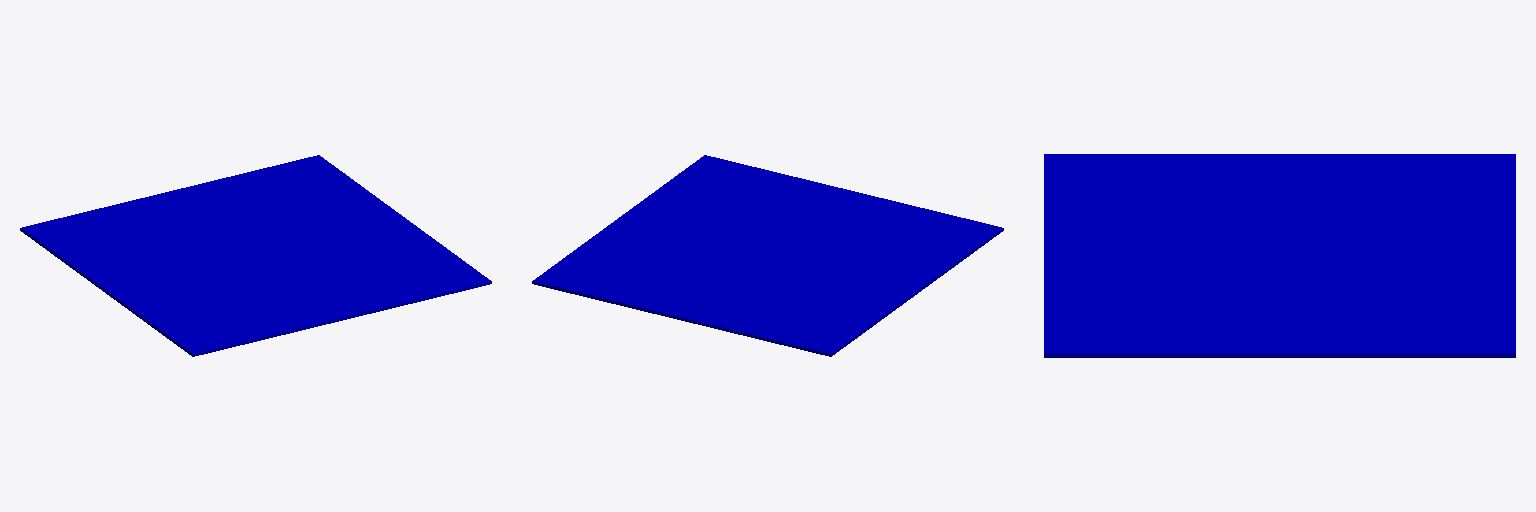
robot.urdf — ur5e:
<?xml version="1.0" ?>
<!-- =================================================================================== -->
<!-- |    This document was autogenerated by xacro from ur5e.xacro                     | -->
<!-- |    EDITING THIS FILE BY HAND IS NOT RECOMMENDED                                 | -->
<!-- =================================================================================== -->
<robot name="ur5e">
  <gazebo>
    <plugin filename="libgazebo_ros_control.so" name="ros_control">
      <!--robotNamespace>/</robotNamespace-->
      <!--robotSimType>gazebo_ros_control/DefaultRobotHWSim</robotSimType-->
    </plugin>
    <!--
    <plugin name="gazebo_ros_power_monitor_controller" filename="libgazebo_ros_power_monitor.so">
      <alwaysOn>true</alwaysOn>
      <updateRate>1.0</updateRate>
      <timeout>5</timeout>
      <powerStateTopic>power_state</powerStateTopic>
      <powerStateRate>10.0</powerStateRate>
      <fullChargeCapacity>87.78</fullChargeCapacity>     
      <dischargeRate>-474</dischargeRate>
      <chargeRate>525</chargeRate>
      <dischargeVoltage>15.52</dischargeVoltage>
      <chargeVoltage>16.41</chargeVoltage>
    </plugin>
-->
  </gazebo>
  <!-- Create the link of the hemisphere -->
  <!--property name="shoulder_height" value="0.089159" /-->
  <!--property name="shoulder_offset" value="0.13585" /-->
  <!-- shoulder_offset - elbow_offset + wrist_1_length = 0.10915 -->
  <!--property name="upper_arm_length" value="0.42500" /-->
  <!--property name="elbow_offset" value="0.1197" /-->
  <!-- CAD measured -->
  <!--property name="forearm_length" value="0.39225" /-->
  <!--property name="wrist_1_length" value="0.093" /-->
  <!-- CAD measured -->
  <!--property name="wrist_2_length" value="0.09465" /-->
  <!-- In CAD this distance is 0.930, but in the spec it is 0.09465 -->
  <!--property name="wrist_3_length" value="0.0823" /-->
  <!-- manually measured -->
  <link name="ur5_base_link">
    <visual>
      <geometry>
        <mesh filename="./ur5e/meshes/visual/base.dae"/>
      </geometry>
      <material name="LightGrey">
        <color rgba="0.7 0.7 0.7 1.0"/>
      </material>
    </visual>
    <collision>
      <geometry>
        <mesh filename="./ur5e/meshes/collision/base.stl"/>
      </geometry>
    </collision>
    <inertial>
      <mass value="4.0"/>
      <origin rpy="0 0 0" xyz="0.0 0.0 0.0"/>
      <inertia ixx="0.00443333156" ixy="0.0" ixz="0.0" iyy="0.00443333156" iyz="0.0" izz="0.0072"/>
    </inertial>
  </link>
  <joint name="ur5_shoulder_pan_joint" type="revolute">
    <parent link="ur5_base_link"/>
    <child link="ur5_shoulder_link"/>
    <origin rpy="0.0 0.0 3.141592653589793" xyz="0.0 0.0 0.163"/>
    <axis xyz="0 0 1"/>
    <limit effort="150.0" lower="-6.283185307179586" upper="6.283185307179586" velocity="3.14"/>
    <dynamics damping="0.0" friction="0.0"/>
  </joint>
  <link name="ur5_shoulder_link">
    <visual>
      <geometry>
        <mesh filename="./ur5e/meshes/visual/shoulder.dae"/>
      </geometry>
      <material name="LightGrey">
        <color rgba="0.7 0.7 0.7 1.0"/>
      </material>
    </visual>
    <collision>
      <geometry>
        <mesh filename="./ur5e/meshes/collision/shoulder.stl"/>
      </geometry>
    </collision>
    <inertial>
      <mass value="3.7"/>
      <origin rpy="0 0 0" xyz="0.0 0.0 0.0"/>
      <inertia ixx="0.010267495893" ixy="0.0" ixz="0.0" iyy="0.010267495893" iyz="0.0" izz="0.00666"/>
    </inertial>
  </link>
  <joint name="ur5_shoulder_lift_joint" type="revolute">
    <parent link="ur5_shoulder_link"/>
    <child link="ur5_upper_arm_link"/>
    <origin rpy="0.0 1.5707963267948966 0.0" xyz="0.0 0.138 0.0"/>
    <axis xyz="0 1 0"/>
    <limit effort="150.0" lower="-6.283185307179586" upper="6.283185307179586" velocity="3.14"/>
    <dynamics damping="0.0" friction="0.0"/>
  </joint>
  <link name="ur5_upper_arm_link">
    <visual>
      <geometry>
        <mesh filename="./ur5e/meshes/visual/upperarm.dae"/>
      </geometry>
      <material name="LightGrey">
        <color rgba="0.7 0.7 0.7 1.0"/>
      </material>
    </visual>
    <collision>
      <geometry>
        <mesh filename="./ur5e/meshes/collision/upperarm.stl"/>
      </geometry>
    </collision>
    <inertial>
      <mass value="8.393"/>
      <origin rpy="0 0 0" xyz="0.0 0.0 0.2125"/>
      <inertia ixx="0.1338857818623325" ixy="0.0" ixz="0.0" iyy="0.1338857818623325" iyz="0.0" izz="0.0151074"/>
    </inertial>
  </link>
  <joint name="ur5_elbow_joint" type="revolute">
    <parent link="ur5_upper_arm_link"/>
    <child link="ur5_forearm_link"/>
    <origin rpy="0.0 0.0 0.0" xyz="0.0 -0.131 0.425"/>
    <axis xyz="0 1 0"/>
    <limit effort="150.0" lower="-3.141592653589793" upper="3.141592653589793" velocity="3.14"/>
    <dynamics damping="0.0" friction="0.0"/>
  </joint>
  <link name="ur5_forearm_link">
    <visual>
      <geometry>
        <mesh filename="./ur5e/meshes/visual/forearm.dae"/>
      </geometry>
      <material name="LightGrey">
        <color rgba="0.7 0.7 0.7 1.0"/>
      </material>
    </visual>
    <collision>
      <geometry>
        <mesh filename="./ur5e/meshes/collision/forearm.stl"/>
      </geometry>
    </collision>
    <inertial>
      <mass value="2.275"/>
      <origin rpy="0 0 0" xyz="0.0 0.0 0.196"/>
      <inertia ixx="0.031179620861480004" ixy="0.0" ixz="0.0" iyy="0.031179620861480004" iyz="0.0" izz="0.004095"/>
    </inertial>
  </link>
  <joint name="ur5_wrist_1_joint" type="revolute">
    <parent link="ur5_forearm_link"/>
    <child link="ur5_wrist_1_link"/>
    <origin rpy="0.0 1.5707963267948966 0.0" xyz="0.0 0.0 0.392"/>
    <axis xyz="0 1 0"/>
    <limit effort="28.0" lower="-6.283185307179586" upper="6.283185307179586" velocity="6.28"/>
    <dynamics damping="0.0" friction="0.0"/>
  </joint>
  <link name="ur5_wrist_1_link">
    <visual>
      <geometry>
        <mesh filename="./ur5e/meshes/visual/wrist1.dae"/>
      </geometry>
      <material name="LightGrey">
        <color rgba="0.7 0.7 0.7 1.0"/>
      </material>
    </visual>
    <collision>
      <geometry>
        <mesh filename="./ur5e/meshes/collision/wrist1.stl"/>
      </geometry>
    </collision>
    <inertial>
      <mass value="1.219"/>
      <origin rpy="0 0 0" xyz="0.0 0.127 0.0"/>
      <inertia ixx="0.0025598989760400002" ixy="0.0" ixz="0.0" iyy="0.0025598989760400002" iyz="0.0" izz="0.0021942"/>
    </inertial>
  </link>
  <joint name="ur5_wrist_2_joint" type="revolute">
    <parent link="ur5_wrist_1_link"/>
    <child link="ur5_wrist_2_link"/>
    <origin rpy="0.0 0.0 0.0" xyz="0.0 0.127 0.0"/>
    <axis xyz="0 0 1"/>
    <limit effort="28.0" lower="-6.283185307179586" upper="6.283185307179586" velocity="6.28"/>
    <dynamics damping="0.0" friction="0.0"/>
  </joint>
  <link name="ur5_wrist_2_link">
    <visual>
      <geometry>
        <mesh filename="./ur5e/meshes/visual/wrist2.dae"/>
      </geometry>
      <material name="LightGrey">
        <color rgba="0.7 0.7 0.7 1.0"/>
      </material>
    </visual>
    <collision>
      <geometry>
        <mesh filename="./ur5e/meshes/collision/wrist2.stl"/>
      </geometry>
    </collision>
    <inertial>
      <mass value="1.219"/>
      <origin rpy="0 0 0" xyz="0.0 0.0 0.1"/>
      <inertia ixx="0.0025598989760400002" ixy="0.0" ixz="0.0" iyy="0.0025598989760400002" iyz="0.0" izz="0.0021942"/>
    </inertial>
  </link>
  <joint name="ur5_wrist_3_joint" type="revolute">
    <parent link="ur5_wrist_2_link"/>
    <child link="ur5_wrist_3_link"/>
    <origin rpy="0.0 0.0 0.0" xyz="0.0 0.0 0.1"/>
    <axis xyz="0 1 0"/>
    <limit effort="28.0" lower="-6.283185307179586" upper="6.283185307179586" velocity="6.28"/>
    <dynamics damping="0.0" friction="0.0"/>
  </joint>
  <link name="ur5_wrist_3_link">
    <visual>
      <geometry>
        <mesh filename="./ur5e/meshes/visual/wrist3.dae"/>
      </geometry>
      <material name="LightGrey">
        <color rgba="0.7 0.7 0.7 1.0"/>
      </material>
    </visual>
    <collision>
      <geometry>
        <mesh filename="./ur5e/meshes/collision/wrist3.stl"/>
      </geometry>
    </collision>
    <inertial>
      <mass value="0.1879"/>
      <origin rpy="1.5707963267948966 0 0" xyz="0.0 0.0771 0.0"/>
      <inertia ixx="9.890410052167731e-05" ixy="0.0" ixz="0.0" iyy="9.890410052167731e-05" iyz="0.0" izz="0.0001321171875"/>
    </inertial>
  </link>
  <joint name="ur5_ee_fixed_joint" type="fixed">
    <parent link="ur5_wrist_3_link"/>
    <child link="ur5_ee_link"/>
    <origin rpy="0.0 0.0 1.5707963267948966" xyz="0.0 0.1 0.0"/>
  </joint>
  <link name="ur5_ee_link">
    <collision>
      <geometry>
        <box size="0.01 0.01 0.01"/>
      </geometry>
      <origin rpy="0 0 0" xyz="-0.01 0 0"/>
    </collision>
  </link>
  <transmission name="ur5_shoulder_pan_trans">
    <type>transmission_interface/SimpleTransmission</type>
    <joint name="ur5_shoulder_pan_joint">
      <hardwareInterface>hardware_interface/PositionJointInterface</hardwareInterface>
    </joint>
    <actuator name="ur5_shoulder_pan_motor">
      <mechanicalReduction>1</mechanicalReduction>
    </actuator>
  </transmission>
  <transmission name="ur5_shoulder_lift_trans">
    <type>transmission_interface/SimpleTransmission</type>
    <joint name="ur5_shoulder_lift_joint">
      <hardwareInterface>hardware_interface/PositionJointInterface</hardwareInterface>
    </joint>
    <actuator name="ur5_shoulder_lift_motor">
      <mechanicalReduction>1</mechanicalReduction>
    </actuator>
  </transmission>
  <transmission name="ur5_elbow_trans">
    <type>transmission_interface/SimpleTransmission</type>
    <joint name="ur5_elbow_joint">
      <hardwareInterface>hardware_interface/PositionJointInterface</hardwareInterface>
    </joint>
    <actuator name="ur5_elbow_motor">
      <mechanicalReduction>1</mechanicalReduction>
    </actuator>
  </transmission>
  <transmission name="ur5_wrist_1_trans">
    <type>transmission_interface/SimpleTransmission</type>
    <joint name="ur5_wrist_1_joint">
      <hardwareInterface>hardware_interface/PositionJointInterface</hardwareInterface>
    </joint>
    <actuator name="ur5_wrist_1_motor">
      <mechanicalReduction>1</mechanicalReduction>
    </actuator>
  </transmission>
  <transmission name="ur5_wrist_2_trans">
    <type>transmission_interface/SimpleTransmission</type>
    <joint name="ur5_wrist_2_joint">
      <hardwareInterface>hardware_interface/PositionJointInterface</hardwareInterface>
    </joint>
    <actuator name="ur5_wrist_2_motor">
      <mechanicalReduction>1</mechanicalReduction>
    </actuator>
  </transmission>
  <transmission name="ur5_wrist_3_trans">
    <type>transmission_interface/SimpleTransmission</type>
    <joint name="ur5_wrist_3_joint">
      <hardwareInterface>hardware_interface/PositionJointInterface</hardwareInterface>
    </joint>
    <actuator name="ur5_wrist_3_motor">
      <mechanicalReduction>1</mechanicalReduction>
    </actuator>
  </transmission>
  <gazebo reference="ur5_shoulder_link">
    <selfCollide>true</selfCollide>
  </gazebo>
  <gazebo reference="ur5_upper_arm_link">
    <selfCollide>true</selfCollide>
  </gazebo>
  <gazebo reference="ur5_forearm_link">
    <selfCollide>true</selfCollide>
  </gazebo>
  <gazebo reference="ur5_wrist_1_link">
    <selfCollide>true</selfCollide>
  </gazebo>
  <gazebo reference="ur5_wrist_3_link">
    <selfCollide>true</selfCollide>
  </gazebo>
  <gazebo reference="ur5_wrist_2_link">
    <selfCollide>true</selfCollide>
  </gazebo>
  <gazebo reference="ur5_ee_link">
    <selfCollide>true</selfCollide>
  </gazebo>
  <!-- ROS base_link to UR 'Base' Coordinates transform -->
  <link name="ur5_base"/>
  <joint name="ur5_base_link-base_fixed_joint" type="fixed">
    <!-- NOTE: this rotation is only needed as long as base_link itself is
                 not corrected wrt the real robot (ie: rotated over 180
                 degrees)
      -->
    <origin rpy="0 0 -3.141592653589793" xyz="0 0 0"/>
    <parent link="ur5_base_link"/>
    <child link="ur5_base"/>
  </joint>
  <!-- Frame coincident with all-zeros TCP on UR controller -->
  <link name="ur5_tool0"/>
  <joint name="ur5_wrist_3_link-tool0_fixed_joint" type="fixed">
    <origin rpy="-1.5707963267948966 0 0" xyz="0 0.1 0"/>
    <parent link="ur5_wrist_3_link"/>
    <child link="ur5_tool0"/>
  </joint>
  <link name="world"/>
  <joint name="ur5_desk_to_robot" type="fixed">
    <parent link="world"/>
    <child link="ur5_base_link"/>
    <origin rpy="0.0 0.0 0.0" xyz="0.0 0.0 0.0"/>
  </joint>

  <joint name="ur5_tool0-tool_link" type="fixed">
    <origin rpy="0 0 0" xyz="0 0 0.05"/>
    <parent link="ur5_tool0"/>
    <child link="tool_link"/>
  </joint>

  <link name="tool_link">
    <visual>
      <geometry>
        <box size="0.1 0.001 0.1" />
      </geometry>
      <material name="blue">
        <color rgba="0 0 .8 1"/>
      </material>
    </visual>
    <collision>
      <geometry>
        <box size="0.1 0.001 0.1" />
      </geometry>
    </collision>
    <inertial>
      <mass value="10"/>
      <inertia ixx="1.0" ixy="0.0" ixz="0.0" iyy="1.0" iyz="0.0" izz="1.0"/>
    </inertial>
  </link>

</robot>

--- Facts derived from the render (not from the file) ---
The picture shows the robot from 3 angles, left to right: view 1: azimuth 30°, elevation 25°; view 2: azimuth 150°, elevation 25°; view 3: azimuth 270°, elevation 25°; orthographic projection.
Model ur5e with 12 links and 11 joints (6 revolute, 5 fixed), rooted at world, posed all joints at 0.
Visible links, largest first — view 1: tool_link; view 2: tool_link; view 3: tool_link.
Link boxes in pixels (<box>): tool_link: <box>20,155,491,356</box>; tool_link: <box>532,155,1003,356</box>; tool_link: <box>1044,154,1515,357</box>.
Bounding box of the posed robot: 0.1 × 0.1 × 0.001 m (x, y, z).
0 mesh visuals loaded from 7 distinct referenced files (none loaded); not drawn: 7 (reference not matched to a file when rendering).